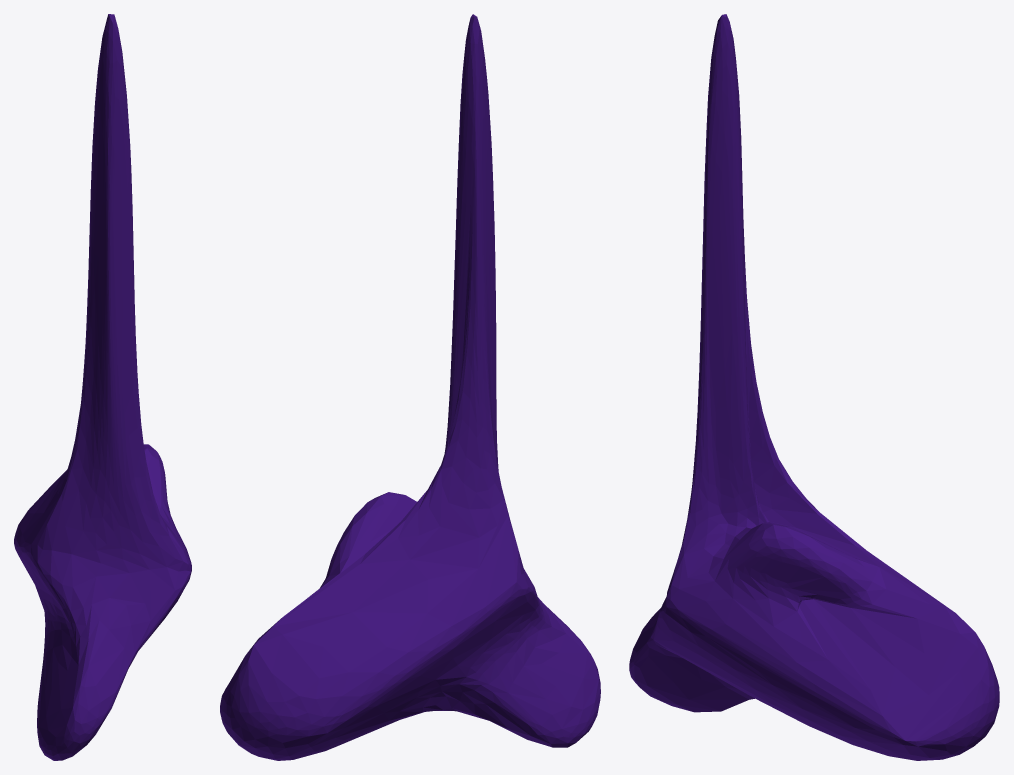
The picture shows the model from 3 angles, left to right: view 1: azimuth 30°, elevation 25°; view 2: azimuth 150°, elevation 25°; view 3: azimuth 270°, elevation 25°; orthographic projection. The views are drawn at different scales.
Parts seen in each view (by area): view 1: 615_Cube.2473; view 2: 615_Cube.2473; view 3: 615_Cube.2473.
Boxes of the visible parts, box(x1,y1,x2,y2) form: 615_Cube.2473: box(14, 14, 191, 760); 615_Cube.2473: box(220, 14, 600, 760); 615_Cube.2473: box(629, 14, 999, 760).
Size of the model in its own units: 4.7 by 13.24 by 6.07.
